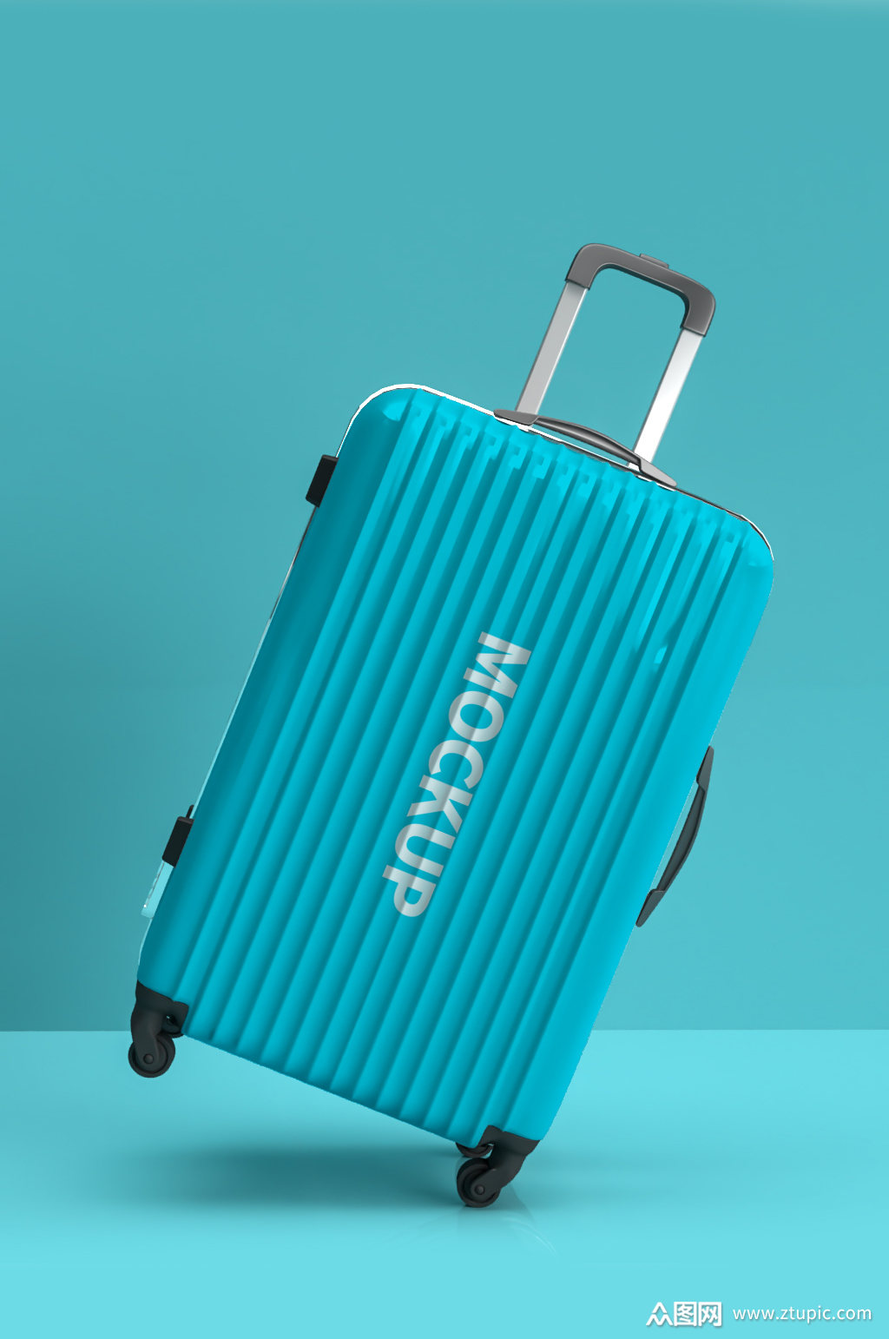box: (137, 386, 775, 1158)
handle: (492, 409, 680, 487), (636, 747, 716, 928)
wheel: (455, 1158, 502, 1209), (128, 1031, 175, 1078)
